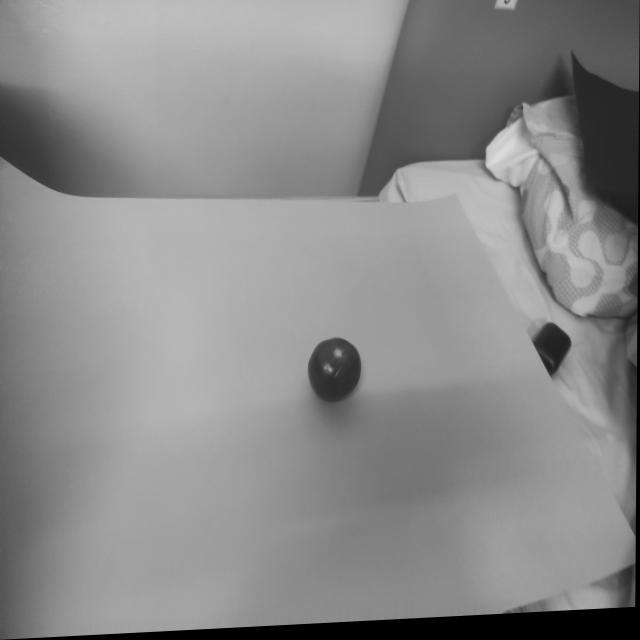kirmizi: (306, 315, 380, 415)
